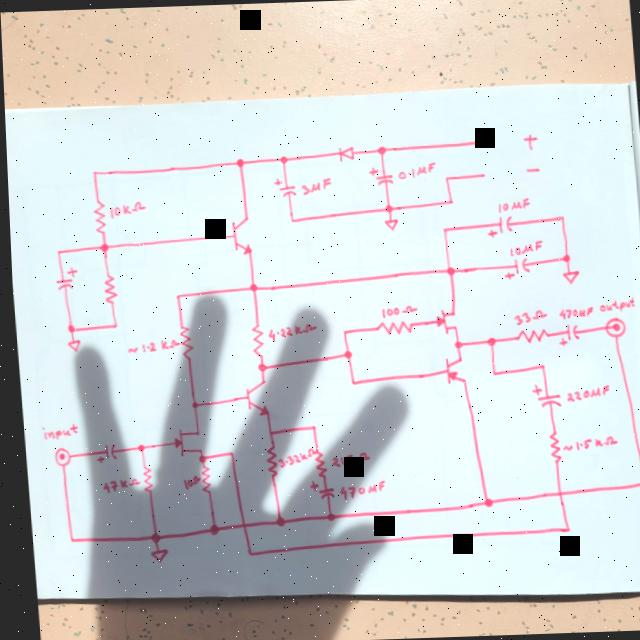capacitor: (524, 382, 558, 407), (482, 213, 512, 238), (49, 266, 77, 291), (552, 320, 577, 346), (499, 256, 528, 278), (302, 478, 330, 499), (364, 163, 391, 184), (89, 442, 113, 463), (269, 177, 294, 197)
crossover: (548, 486, 559, 497), (233, 520, 242, 528)
diode: (334, 144, 353, 162)
ground: (142, 546, 163, 562), (557, 268, 577, 284), (379, 216, 396, 231), (62, 338, 76, 352)
junction: (94, 241, 107, 253), (201, 522, 213, 534), (481, 334, 493, 346), (476, 495, 488, 507), (143, 530, 155, 542), (269, 514, 280, 526), (231, 156, 242, 167), (318, 510, 330, 520), (373, 144, 384, 154), (337, 348, 348, 358), (441, 264, 452, 274), (130, 441, 141, 451), (184, 398, 195, 408), (275, 153, 286, 163), (244, 281, 255, 291), (558, 251, 568, 262), (448, 338, 459, 348), (555, 522, 566, 532), (380, 202, 390, 212), (252, 360, 262, 370), (61, 322, 71, 332), (169, 290, 179, 300), (192, 452, 201, 462), (51, 246, 60, 255), (553, 212, 562, 221), (87, 167, 96, 176), (632, 477, 640, 487), (344, 377, 353, 385), (485, 368, 494, 376), (106, 320, 114, 328), (261, 427, 269, 435), (62, 534, 70, 542), (336, 326, 344, 334), (239, 548, 247, 556), (437, 225, 445, 232), (443, 196, 451, 203), (304, 422, 312, 429), (223, 448, 230, 456), (533, 361, 541, 368), (286, 215, 293, 222), (440, 173, 446, 180)
resistor: (370, 316, 412, 336), (509, 324, 547, 344), (244, 320, 262, 358), (173, 322, 191, 360), (87, 198, 105, 235), (96, 270, 114, 304), (541, 427, 557, 462), (259, 442, 275, 477), (308, 448, 322, 477), (135, 464, 149, 492), (194, 464, 207, 492)
terminal: (599, 314, 623, 338), (47, 445, 67, 466), (475, 136, 485, 144), (477, 169, 485, 178)
text: (557, 433, 614, 452), (332, 478, 381, 500), (262, 320, 314, 340), (121, 336, 177, 354), (558, 382, 606, 402), (271, 446, 311, 467), (104, 198, 145, 217), (394, 160, 435, 178), (324, 449, 366, 466), (95, 475, 136, 492), (507, 306, 545, 324), (34, 422, 74, 439), (593, 295, 632, 312), (296, 175, 330, 194), (504, 238, 540, 255), (492, 196, 527, 212), (553, 305, 590, 319), (375, 302, 414, 315), (518, 131, 538, 150), (176, 473, 196, 490), (521, 163, 539, 174)
transistor: (234, 375, 265, 416), (224, 214, 251, 253), (167, 426, 197, 456), (437, 354, 463, 386), (429, 306, 455, 334)
